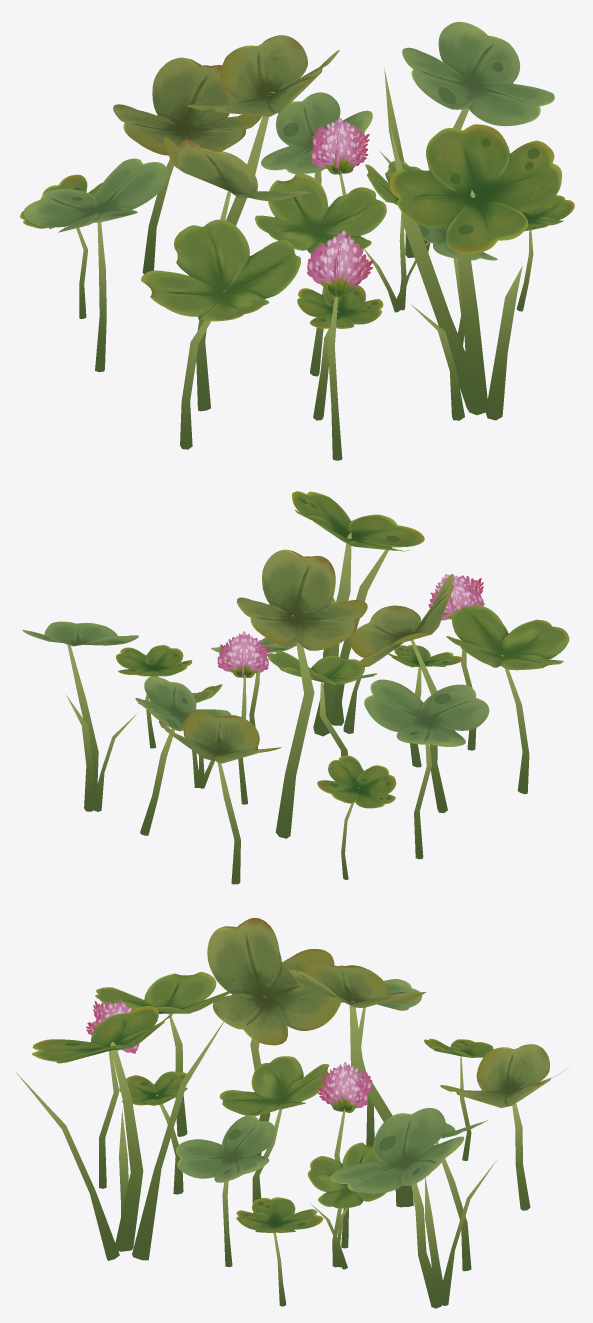
The model's file is cloverFlower_2.fbx.
The picture shows the model from 3 angles, top to bottom: view 1: azimuth 30°, elevation 25°; view 2: azimuth 150°, elevation 25°; view 3: azimuth 270°, elevation 25°; orthographic projection. The views are drawn at different scales.
Parts seen in each view (by area): view 1: cloverFlower_2_low; view 2: cloverFlower_2_low; view 3: cloverFlower_2_low.
Part boxes in pixels (<box>): cloverFlower_2_low: <box>20,22,574,460</box>; cloverFlower_2_low: <box>22,491,569,884</box>; cloverFlower_2_low: <box>16,918,567,1308</box>.
Bounding box in the file's own units: 115 × 63.49 × 120.
